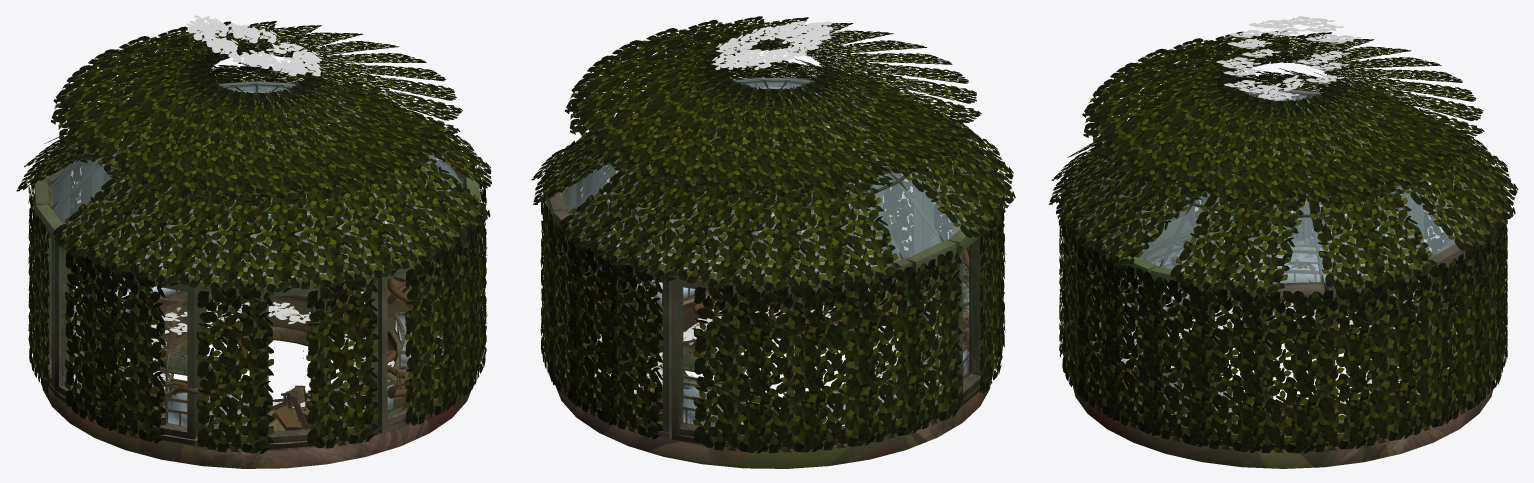
The model's file is piso3.fbx.
The picture shows the model from 3 angles, left to right: view 1: azimuth 30°, elevation 25°; view 2: azimuth 150°, elevation 25°; view 3: azimuth 270°, elevation 25°; orthographic projection. The views are drawn at different scales.
Parts seen in each view (by area): view 1: Cube.022, Cube.021, Cube.020, pared.001, Sphere.001, Sphere.002, Cube.026; view 2: Cube.022, Cube.021, Cube.020, pared.001, Sphere.001, Sphere.002, Cube.023; view 3: Cube.022, Cube.021, Cube.020, Sphere.001, pared.001, Sphere.002, Cube.031, NurbsPath.006, Cube.026.
Boxes of the visible parts, left/top/right/bottom form: Cube.022: left=16, top=21, right=491, bottom=292; Cube.021: left=28, top=115, right=487, bottom=453; Cube.020: left=34, top=103, right=480, bottom=449; pared.001: left=33, top=262, right=481, bottom=468; Sphere.001: left=51, top=81, right=463, bottom=279; Sphere.002: left=50, top=80, right=463, bottom=272; Cube.026: left=168, top=380, right=249, bottom=427; Cube.022: left=531, top=16, right=1015, bottom=291; Cube.021: left=540, top=111, right=1005, bottom=453; Cube.020: left=546, top=100, right=999, bottom=448; pared.001: left=545, top=259, right=999, bottom=468; Sphere.001: left=563, top=77, right=979, bottom=277; Sphere.002: left=562, top=77, right=978, bottom=277; Cube.023: left=683, top=377, right=773, bottom=426; Cube.022: left=1048, top=30, right=1518, bottom=296; Cube.021: left=1059, top=123, right=1507, bottom=453; Cube.020: left=1064, top=110, right=1502, bottom=449; Sphere.001: left=1082, top=90, right=1484, bottom=283; pared.001: left=1063, top=269, right=1504, bottom=468; Sphere.002: left=1079, top=89, right=1485, bottom=282; Cube.031: left=1242, top=240, right=1326, bottom=283; NurbsPath.006: left=1129, top=218, right=1191, bottom=255; Cube.026: left=1120, top=244, right=1191, bottom=317.
Bounding box in the file's own units: 5405 × 4250 × 5368.
